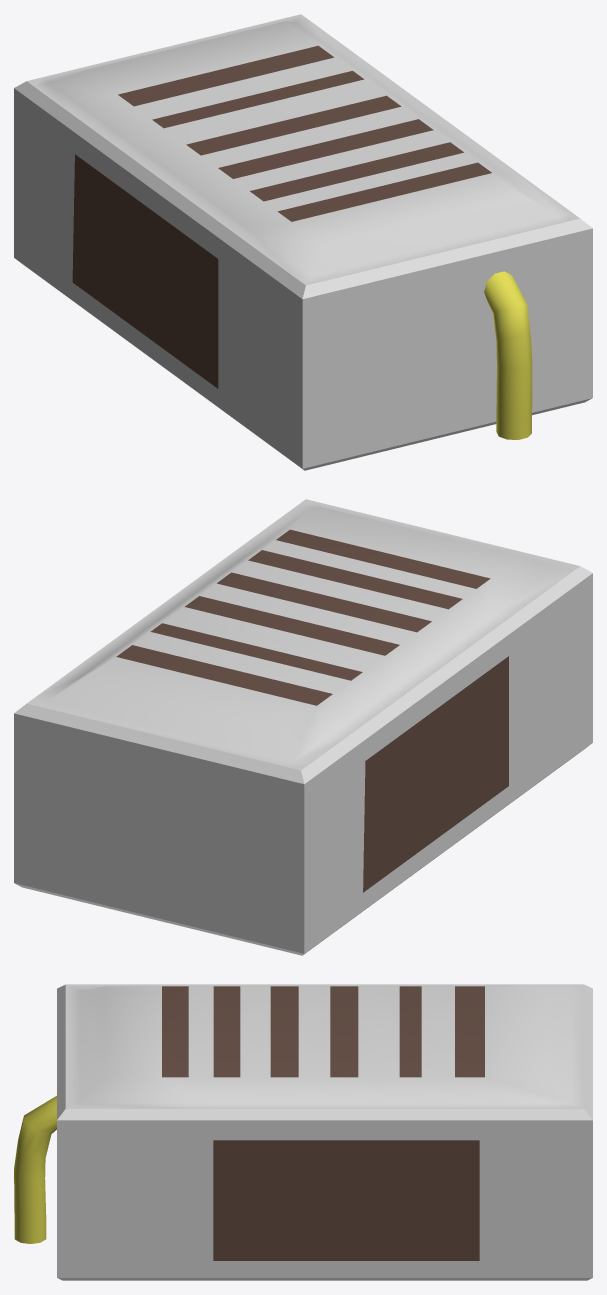
Rendered from Prop_Aircon_Mod_01.fbx.
3 renders of one model, top to bottom at view 1: azimuth 30°, elevation 25°; view 2: azimuth 150°, elevation 25°; view 3: azimuth 270°, elevation 25°, orthographic. The views are drawn at different scales.
Visible parts, largest first — view 1: Aircon, Pipe; view 2: Aircon; view 3: Aircon, Pipe.
Part boxes in pixels (x1,y1,x2,y2): Aircon: (14, 14, 592, 470); Pipe: (484, 271, 532, 439); Aircon: (14, 499, 592, 955); Aircon: (57, 984, 592, 1280); Pipe: (14, 1096, 56, 1243).
Size of the model in its own units: 0.5813 by 0.3818 by 1.08.
